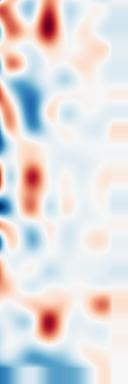filament: (28, 288, 72, 349), (18, 144, 52, 220), (30, 0, 72, 54)
